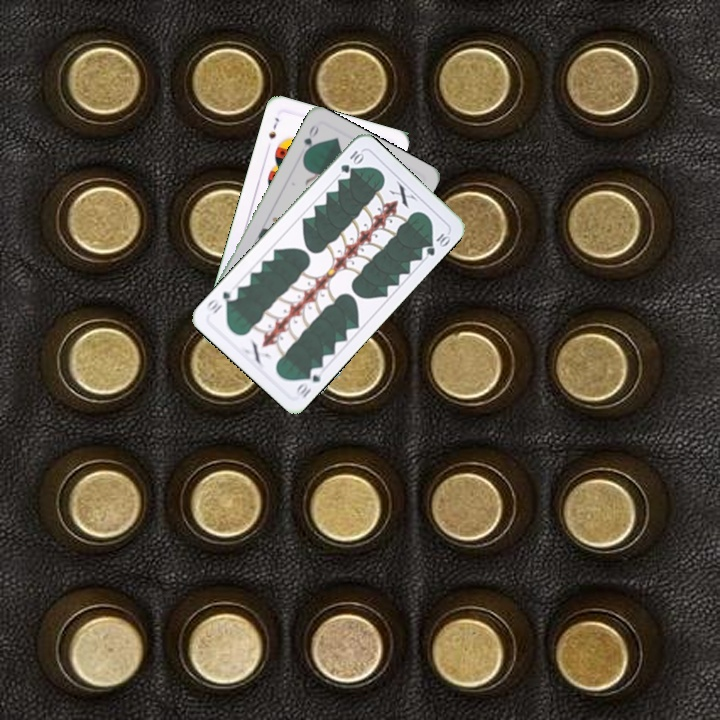G10: (292, 363, 323, 401), (336, 146, 366, 176)
GO: (299, 121, 321, 159)
S7: (264, 113, 282, 141)
